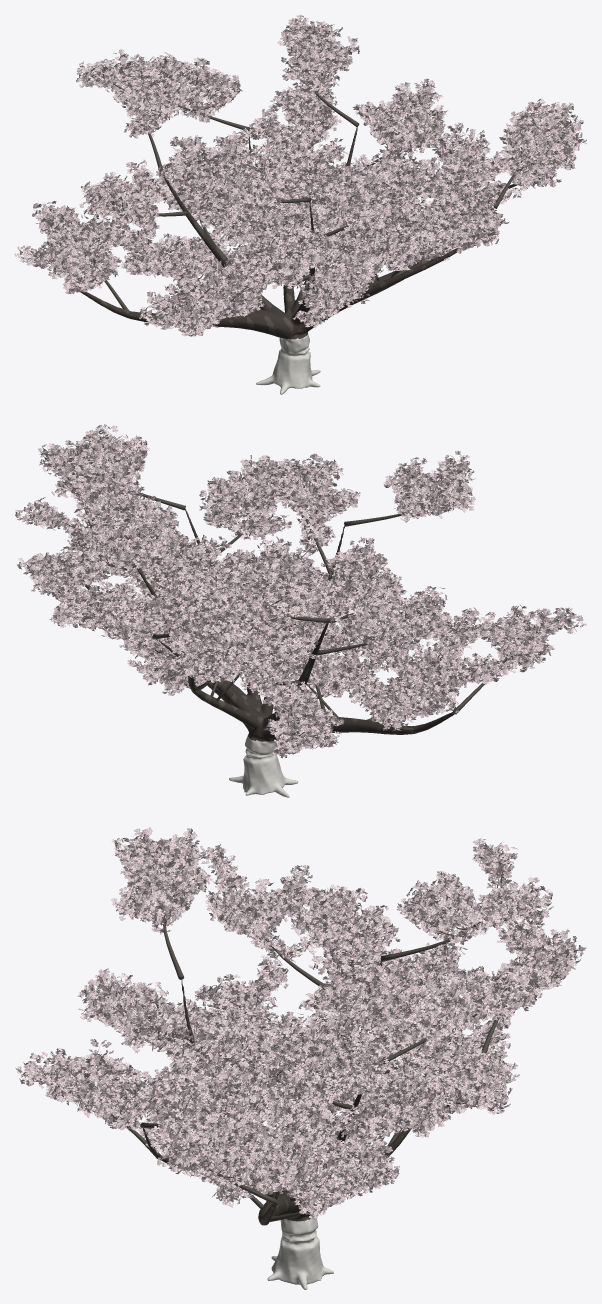
Rendered from guanghua-cherry-near.glb.
3 views of the same model, one above another, from view 1: azimuth 30°, elevation 25°; view 2: azimuth 150°, elevation 25°; view 3: azimuth 270°, elevation 25° (orthographic). The views are drawn at different scales.
Parts seen in each view (by area): view 1: V6 East spreading 01 leaves near, Spring cherry aged branching skeleton; view 2: V6 East spreading 01 leaves near, Spring cherry aged branching skeleton; view 3: V6 East spreading 01 leaves near, Spring cherry aged branching skeleton.
Boxes of the visible parts, x1,y1,x2,y2 form: V6 East spreading 01 leaves near: (14,14,586,336); Spring cherry aged branching skeleton: (28,20,580,394); V6 East spreading 01 leaves near: (15,424,586,758); Spring cherry aged branching skeleton: (22,433,582,797); V6 East spreading 01 leaves near: (15,827,586,1219); Spring cherry aged branching skeleton: (21,835,577,1289).
Size of the model in its own units: 10.85 by 5.88 by 8.24.
7 materials, 3 textured.
